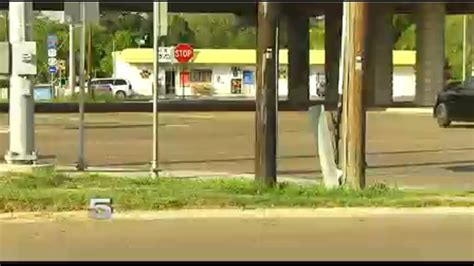pole: (244, 1, 293, 188)
